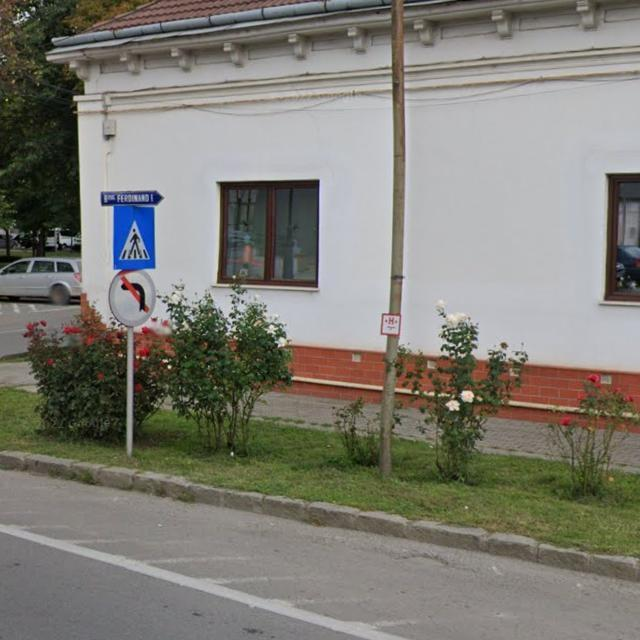info_crosswalk: (112, 205, 156, 270)
